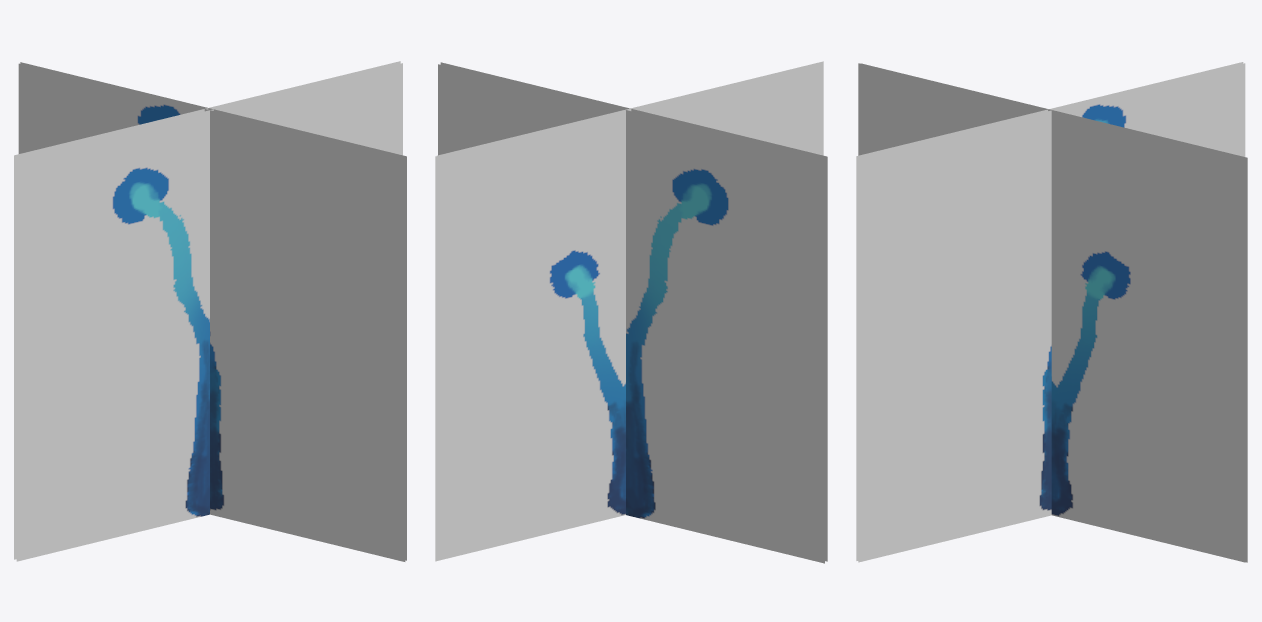
The model's file is Glow_mushroom_03.fbx.
3 views of the same model, side by side, from view 1: azimuth 30°, elevation 25°; view 2: azimuth 150°, elevation 25°; view 3: azimuth 270°, elevation 25° (orthographic).
Visible parts, largest first — view 1: Glow_mushroom_03; view 2: Glow_mushroom_03; view 3: Glow_mushroom_03.
Boxes of the visible parts, <box> form: Glow_mushroom_03: <box>14,61,406,561</box>; Glow_mushroom_03: <box>435,61,827,563</box>; Glow_mushroom_03: <box>856,62,1247,562</box>.
Size of the model in its own units: 0.1199 by 0.1198 by 0.1049.
Materials: 1 (1 with a texture image).
